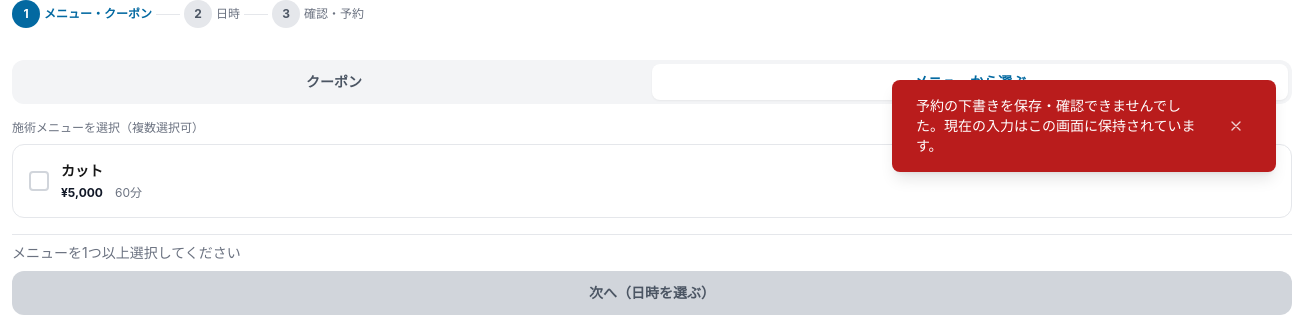
it: 共有世代を読めない場合は既存入力を復元せず、通常のゲスト予約画面に固定案内を出す
Expected: the text "予約の下書きを保存・確認できませんでした。現在の入力はこの画面に保持されています。" is shown, x1=916 y1=96 x2=1208 y2=156
Click the text "カット" at (82, 171), box x1=61 y1=161 x2=103 y2=181
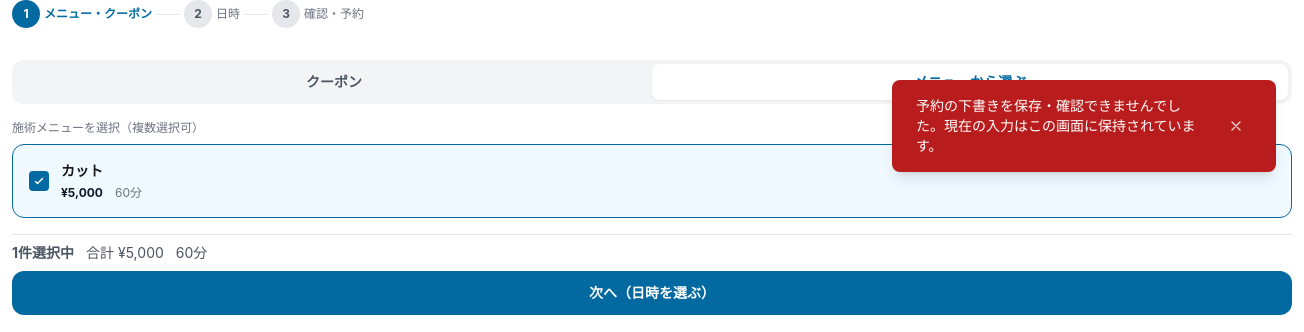
Expected: the button "次へ（日時を選ぶ）" is enabled, x1=12 y1=271 x2=1292 y2=315
